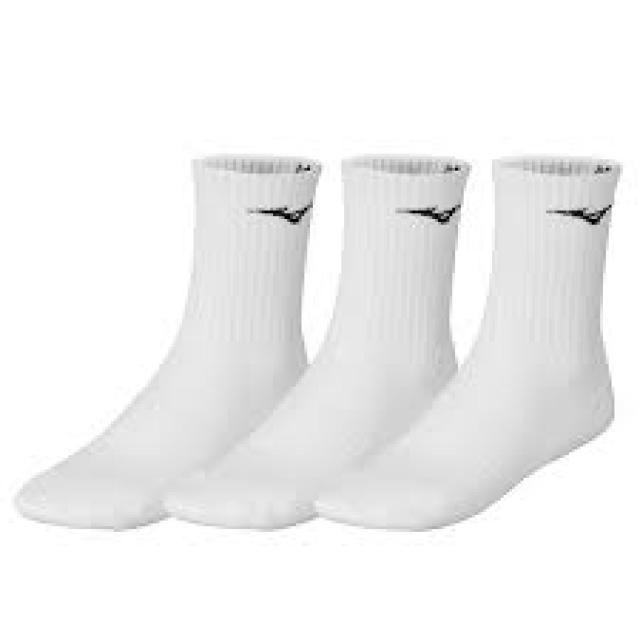sock: (159, 151, 472, 529), (11, 151, 322, 529), (313, 154, 620, 532)
